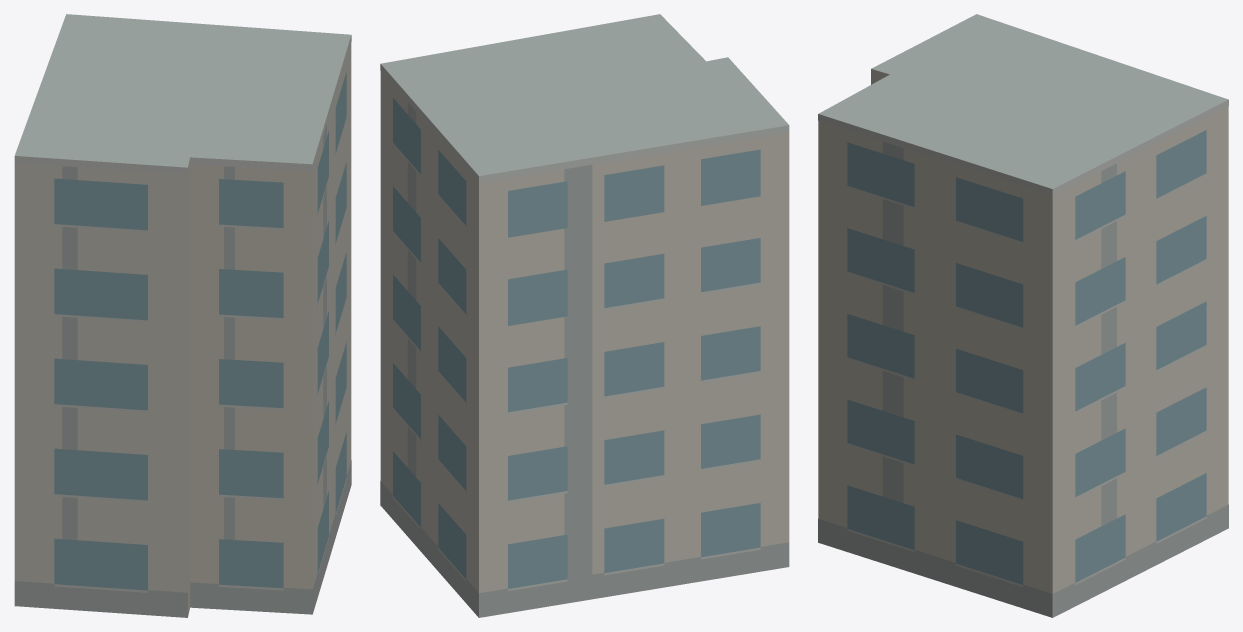
File: survey-upis-32826143.glb
3 views of the same model, side by side, from view 1: azimuth 30°, elevation 25°; view 2: azimuth 150°, elevation 25°; view 3: azimuth 270°, elevation 25° (orthographic). The views are drawn at different scales.
Parts seen in each view (by area): view 1: survey-upis-32826143.tmp; view 2: survey-upis-32826143.tmp; view 3: survey-upis-32826143.tmp.
Part boxes in pixels (left/top/right/bottom): survey-upis-32826143.tmp: left=14, top=14, right=351, bottom=617; survey-upis-32826143.tmp: left=380, top=14, right=789, bottom=617; survey-upis-32826143.tmp: left=818, top=14, right=1228, bottom=617.
Size of the model in its own units: 13.36 by 15.25 by 13.24.
